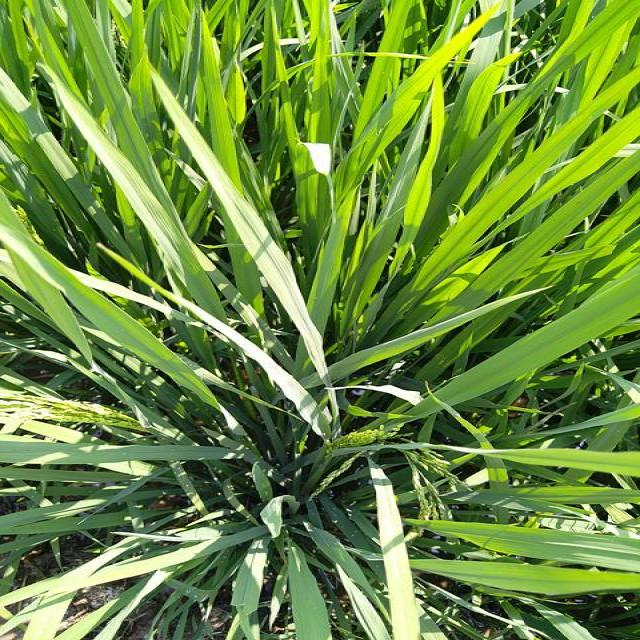Rice: (382, 283, 640, 425), (499, 47, 640, 281), (264, 8, 352, 222), (418, 54, 500, 282), (400, 512, 640, 566), (417, 550, 640, 608), (361, 453, 421, 640), (374, 64, 424, 283), (222, 194, 300, 310), (197, 11, 243, 196), (428, 446, 640, 485), (306, 193, 360, 334), (0, 441, 240, 469), (276, 540, 327, 640)
